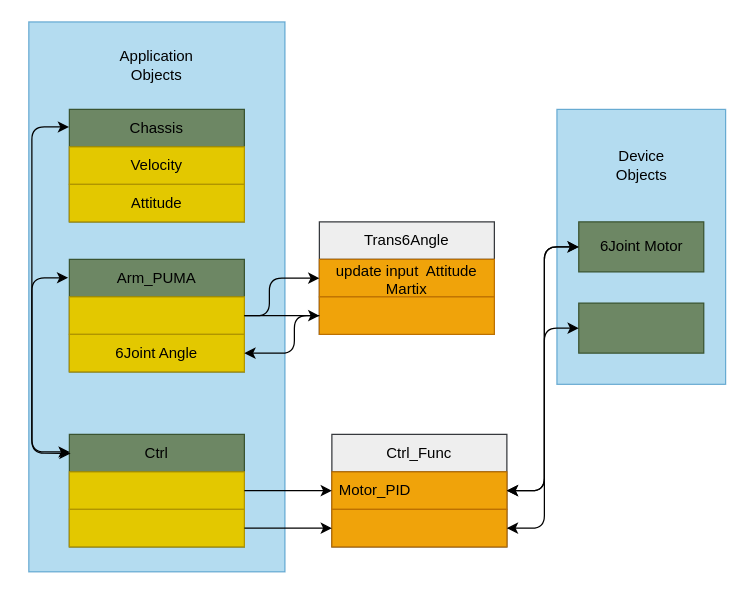
This 748x594 diagram has some shape labels left out. The shapes that lost their labels are listed below. From the top down, each one's centre as x and y in pixels, then its label:
At point 156,315: "6Axis Positon&Attitude".
At point 406,315: "Analytic Solutions".
At point 641,327: "Chassis Motor".
At point 156,490: "PID".
At point 156,527: "FFC".
At point 419,527: "State_Feedback".
